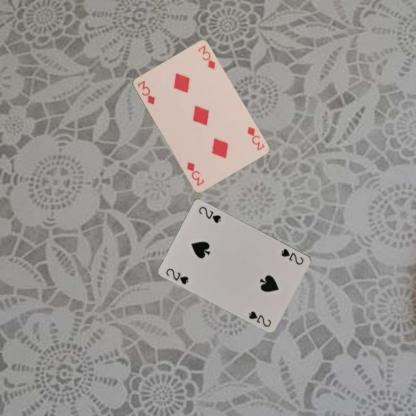2s: (279, 246, 305, 266), (164, 266, 190, 285)
3d: (135, 78, 156, 106), (245, 124, 266, 151)
